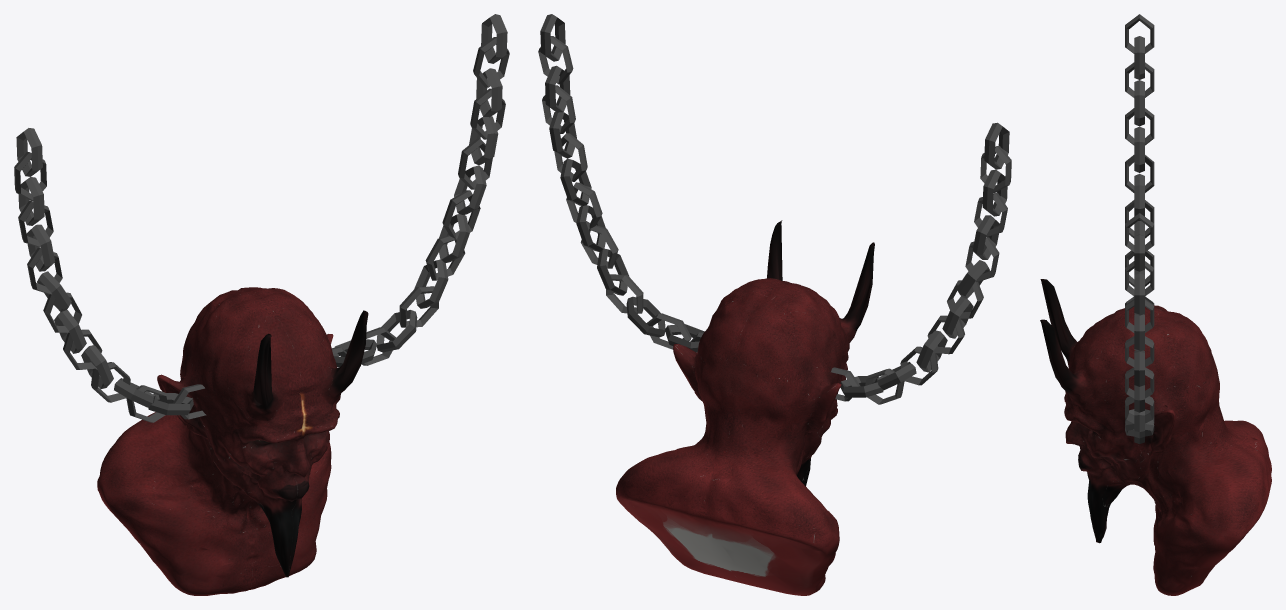
File: satan in chains.fbx
The picture shows the model from 3 angles, left to right: view 1: azimuth 30°, elevation 25°; view 2: azimuth 150°, elevation 25°; view 3: azimuth 270°, elevation 25°; orthographic projection. The views are drawn at different scales.
Parts seen in each view (by area): view 1: Creature, Torus.018_Torus.003, Torus.031_Torus.003, Torus.006_Torus.003, Torus.018_Torus.001, Torus.022_Torus.003, Torus.018_Torus.000, Torus.021_Torus.003, Torus.032_Torus.003, Torus.009_Torus.003, Torus.028_Torus.003, Torus.037_Torus.002 (+7 smaller); view 2: Creature, Torus.018_Torus.003, Torus.031_Torus.003, Torus.006_Torus.003, Torus.018_Torus.001, Torus.022_Torus.003, Torus.018_Torus.000, Torus.021_Torus.003, Torus.032_Torus.003, Torus.009_Torus.003, Torus.028_Torus.003, Torus.037_Torus.002 (+4 smaller); view 3: Creature, Torus.033_Torus.003, Torus.029_Torus.003, Torus.031_Torus.003, Torus.018_Torus.003, Torus.030_Torus.003, Torus.037_Torus.000, Torus.040_Torus.002, Torus.028_Torus.003, Torus.016_Torus.003, Torus.032_Torus.003, Torus.018_Torus.000 (+8 smaller).
Boxes of the visible parts, bbox=[...] form: Creature: bbox=[97, 287, 368, 595]; Torus.018_Torus.003: bbox=[481, 14, 507, 63]; Torus.031_Torus.003: bbox=[16, 128, 42, 176]; Torus.006_Torus.003: bbox=[376, 310, 417, 352]; Torus.018_Torus.001: bbox=[414, 259, 448, 308]; Torus.022_Torus.003: bbox=[454, 165, 486, 214]; Torus.018_Torus.000: bbox=[476, 68, 502, 117]; Torus.021_Torus.003: bbox=[469, 116, 498, 165]; Torus.032_Torus.003: bbox=[18, 177, 44, 225]; Torus.009_Torus.003: bbox=[439, 214, 469, 263]; Torus.028_Torus.003: bbox=[26, 224, 55, 271]; Torus.037_Torus.002: bbox=[399, 286, 438, 327]; Creature: bbox=[616, 220, 874, 595]; Torus.018_Torus.003: bbox=[540, 14, 565, 61]; Torus.031_Torus.003: bbox=[984, 122, 1009, 169]; Torus.006_Torus.003: bbox=[626, 296, 665, 337]; Torus.018_Torus.001: bbox=[597, 248, 629, 295]; Torus.022_Torus.003: bbox=[560, 158, 591, 205]; Torus.018_Torus.000: bbox=[545, 65, 570, 112]; Torus.021_Torus.003: bbox=[549, 111, 576, 158]; Torus.032_Torus.003: bbox=[982, 169, 1007, 216]; Torus.009_Torus.003: bbox=[576, 205, 605, 251]; Torus.028_Torus.003: bbox=[972, 215, 999, 259]; Torus.037_Torus.002: bbox=[606, 274, 643, 313]; Creature: bbox=[1040, 279, 1271, 595]; Torus.033_Torus.003: bbox=[1134, 80, 1144, 126]; Torus.029_Torus.003: bbox=[1134, 126, 1144, 172]; Torus.031_Torus.003: bbox=[1125, 14, 1154, 53]; Torus.018_Torus.003: bbox=[1125, 213, 1154, 251]; Torus.030_Torus.003: bbox=[1134, 36, 1144, 79]; Torus.037_Torus.000: bbox=[1134, 173, 1144, 220]; Torus.040_Torus.002: bbox=[1125, 155, 1154, 192]; Torus.028_Torus.003: bbox=[1125, 108, 1154, 145]; Torus.016_Torus.003: bbox=[1134, 277, 1144, 315]; Torus.032_Torus.003: bbox=[1125, 62, 1154, 97]; Torus.018_Torus.000: bbox=[1125, 261, 1154, 296].
Size of the model in its own units: 970 by 999 by 452.
